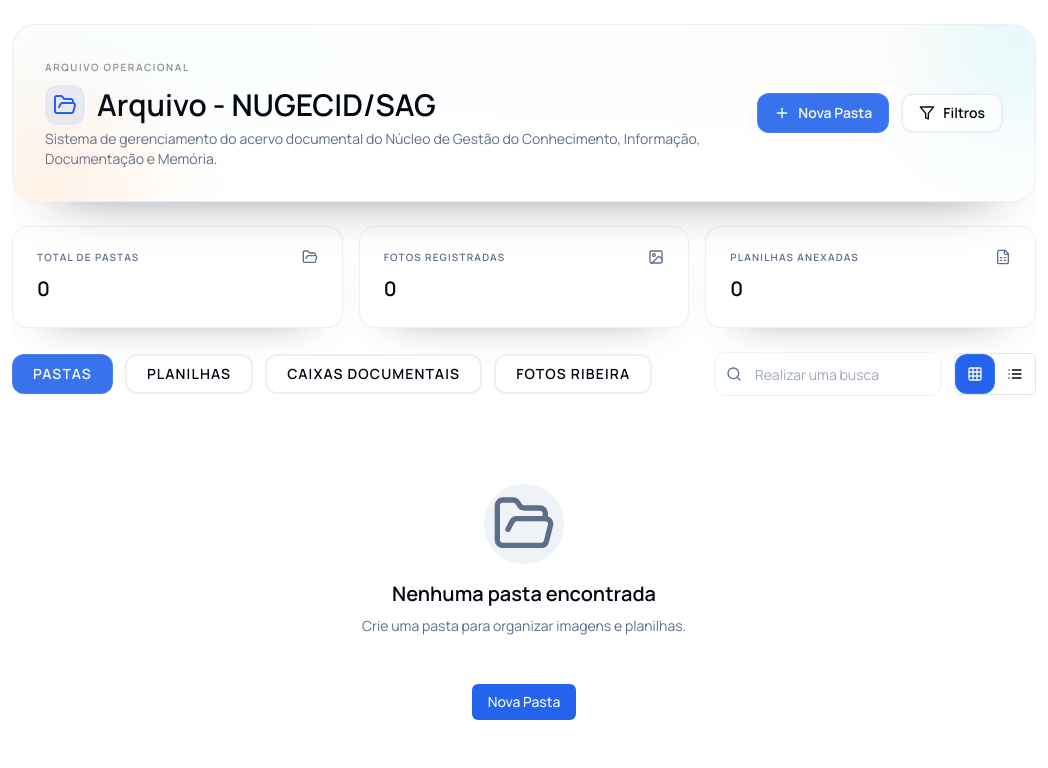
ArquivoPage › exibe a tabela de etiquetas extraidas pelo OCR na aba Fotos Ribeira
Click the button "Fotos Ribeira" at (573, 374), box [494,354,652,394]
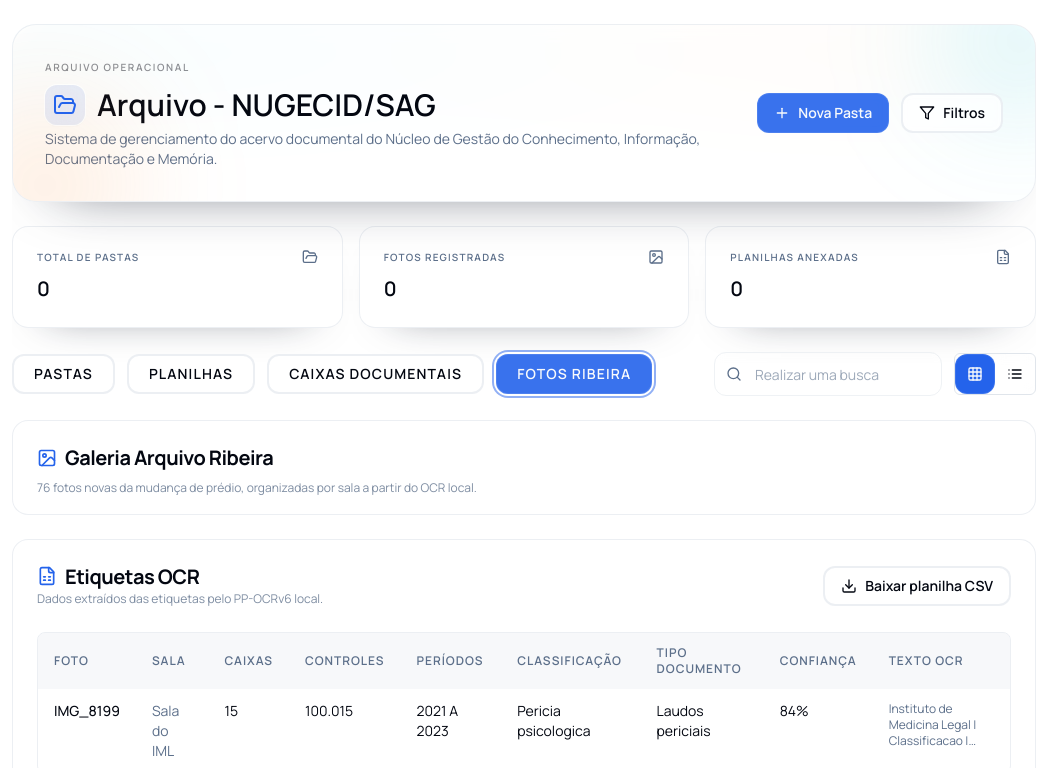
Result: the heading "Etiquetas OCR" is shown at [37,562,199,590]
Result: the column heading "Foto" is shown at [38,633,136,689]
Result: the column heading "Caixas" is shown at [208,633,289,689]
